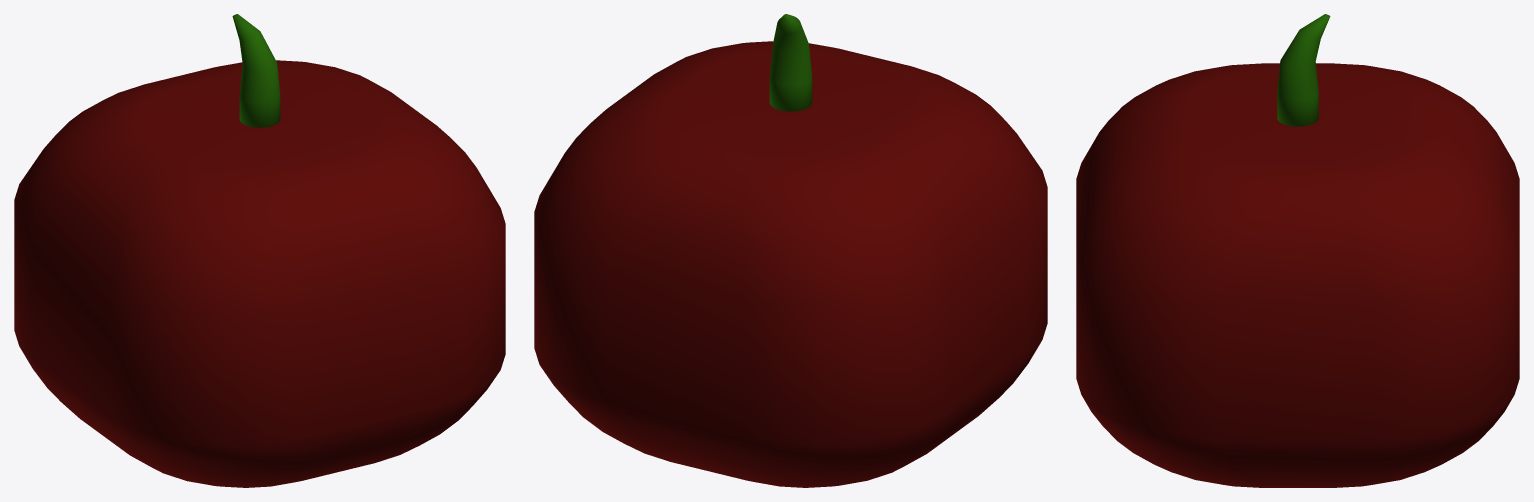
Rendered from Tomate01.fbx.
3 renders of one model, left to right at view 1: azimuth 30°, elevation 25°; view 2: azimuth 150°, elevation 25°; view 3: azimuth 270°, elevation 25°, orthographic. The views are drawn at different scales.
Visible parts, largest first — view 1: Cube; view 2: Cube; view 3: Cube.
Part boxes in pixels (bbox=[...]): Cube: bbox=[14, 14, 505, 487]; Cube: bbox=[534, 14, 1047, 487]; Cube: bbox=[1076, 14, 1519, 487].
Bounding box in the file's own units: 250 × 261 × 250.
